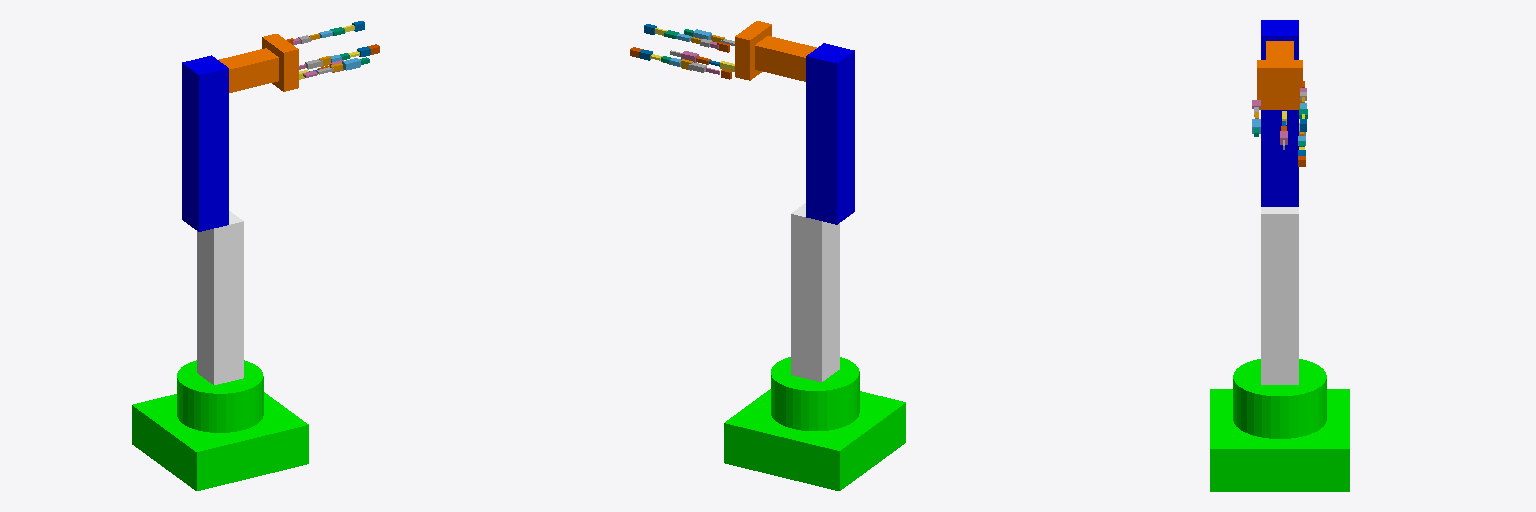
robot.urdf — robot:
<?xml version='1.0' encoding='utf-8'?>
<robot name="robot">
  <link name="base_link">
    <visual>
      <origin xyz="0 0 0.125" rpy="0 0 0" />
      <geometry>
        <box size="0.75 0.75 0.25" />
      </geometry>
      <material name="green" />
    </visual>
    <visual>
      <origin xyz="0 0 0.375" rpy="0 0 0" />
      <geometry>
        <cylinder length="0.25" radius="0.25" />
      </geometry>
      <material name="green">
        <color rgba="0 1 0 1" />
      </material>
    </visual>
    <collision>
      <geometry>
        <box size="0.75 0.75 0.5" />
      </geometry>
    </collision>
    <inertial>
      <mass value="0.5" />
      <inertia ixx="0.034" ixy="0.0" ixz="0.0" iyy="0.034" iyz="0.0" izz="0.034" />
    </inertial>
  </link>
  <link name="support_link">
    <visual>
      <origin xyz="0 0 0.5" rpy="0 0 0" />
      <geometry>
        <box size="0.2 0.2 1" />
      </geometry>
      <material name="white">
        <color rgba="1 1 1 1" />
      </material>
    </visual>
    <collision>
      <geometry>
        <box size="0.2 0.2 1" />
      </geometry>
    </collision>
    <inertial>
      <mass value="0.1" />
      <inertia ixx="0.01" ixy="0.0" ixz="0.0" iyy="0.01" iyz="0.0" izz="0.01" />
    </inertial>
  </link>
  <joint name="support_joint" type="continuous">
    <origin xyz="0 0 0.5" rpy="0 0 0" />
    <parent link="base_link" />
    <child link="support_link" />
    <axis xyz="0 0 1" />
  </joint>
  <link name="arm_link">
    <visual>
      <origin xyz="0 0 0.5" rpy="0 0 0" />
      <geometry>
        <box size="0.2 0.2 1" />
      </geometry>
      <material name="blue">
        <color rgba="0 0 1 1" />
      </material>
    </visual>
    <collision>
      <geometry>
        <box size="0.2 0.2 1" />
      </geometry>
    </collision>
    <inertial>
      <mass value="0.1" />
      <inertia ixx="0.01" ixy="0.0" ixz="0.0" iyy="0.01" iyz="0.0" izz="0.01" />
    </inertial>
  </link>
  <joint name="arm_joint" type="revolute">
    <origin xyz="-0.1 0 1" rpy="0 0 0" />
    <parent link="support_link" />
    <child link="arm_link" />
    <axis xyz="0 1 0" />
    <limit lower="-3.14" upper="3.14" effort="1.0" velocity="1.0" />
  </joint>
  <link name="wrist_link">
    <visual>
      <origin xyz="0 0 0.25" rpy="0 0 0" />
      <geometry>
        <box size="0.15 0.15 0.5" />
      </geometry>
      <material name="orange">
        <color rgba="1 0.5 0 1" />
      </material>
    </visual>
    <collision>
      <geometry>
        <box size="0.15 0.15 0.5" />
      </geometry>
    </collision>
    <inertial>
      <mass value="0.1" />
      <inertia ixx="0.01" ixy="0.0" ixz="0.0" iyy="0.01" iyz="0.0" izz="0.01" />
    </inertial>
  </link>
  <joint name="wrist_joint" type="fixed">
    <origin xyz="0 0 0.9" rpy="0 1.571 0" />
    <parent link="arm_link" />
    <child link="wrist_link" />
  </joint>
  <link name="palm_link">
    <visual>
      <origin xyz="0 0 0.05" rpy="0 0 0" />
      <geometry>
        <box size="0.25 0.25 0.1" />
      </geometry>
      <material name="orange" />
    </visual>
    <collision>
      <geometry>
        <box size="0.25 0.25 0.1" />
      </geometry>
    </collision>
    <inertial>
      <mass value="0.1" />
      <inertia ixx="0.01" ixy="0.0" ixz="0.0" iyy="0.01" iyz="0.0" izz="0.01" />
    </inertial>
  </link>
  <joint name="palm_joint" type="fixed">
    <origin xyz="0 0 0.45" rpy="0 0 0" />
    <parent link="wrist_link" />
    <child link="palm_link" />
  </joint>
  <link name="finger_link_0_0">
    <visual>
      <origin xyz="0 0 0.0355" rpy="0 0 0" />
      <geometry>
        <box size="0.044 0.02 0.071" />
      </geometry>
    </visual>
    <collision>
      <geometry>
        <box size="0.044 0.02 0.071" />
      </geometry>
    </collision>
    <inertial>
      <mass value="0.019" />
      <inertia ixx="0.0" iyy="0.0" izz="0.0" ixy="0" ixz="0" iyz="0" />
    </inertial>
  </link>
  <joint name="finger_joint_palm_link_to_finger_link_0_0" type="revolute">
    <origin xyz="-0.043 0.125 0.136" rpy="0 0 0" />
    <parent link="palm_link" />
    <child link="finger_link_0_0" />
    <axis xyz="-1.0 0.0 0.0" />
    <limit lower="-3.142" upper="3.142" effort="10" velocity="10" />
  </joint>
  <link name="finger_link_0_1">
    <visual>
      <origin xyz="0 0 0.0265" rpy="0 0 0" />
      <geometry>
        <box size="0.023 0.033 0.053" />
      </geometry>
    </visual>
    <collision>
      <geometry>
        <box size="0.023 0.033 0.053" />
      </geometry>
    </collision>
    <inertial>
      <mass value="0.012" />
      <inertia ixx="0.0" iyy="0.0" izz="0.0" ixy="0" ixz="0" iyz="0" />
    </inertial>
  </link>
  <joint name="finger_joint_finger_link_0_0_to_finger_link_0_1" type="revolute">
    <origin xyz="0.0 0.0 0.062" rpy="0 0 0" />
    <parent link="finger_link_0_0" />
    <child link="finger_link_0_1" />
    <axis xyz="-1.0 0.0 0.0" />
    <limit lower="-3.142" upper="3.142" effort="10" velocity="10" />
  </joint>
  <link name="finger_link_0_2">
    <visual>
      <origin xyz="0 0 0.0295" rpy="0 0 0" />
      <geometry>
        <box size="0.026 0.041 0.059" />
      </geometry>
    </visual>
    <collision>
      <geometry>
        <box size="0.026 0.041 0.059" />
      </geometry>
    </collision>
    <inertial>
      <mass value="0.019" />
      <inertia ixx="0.0" iyy="0.0" izz="0.0" ixy="0" ixz="0" iyz="0" />
    </inertial>
  </link>
  <joint name="finger_joint_finger_link_0_1_to_finger_link_0_2" type="revolute">
    <origin xyz="0.0 0.0 0.056" rpy="0 0 0" />
    <parent link="finger_link_0_1" />
    <child link="finger_link_0_2" />
    <axis xyz="-1.0 0.0 0.0" />
    <limit lower="-3.142" upper="3.142" effort="10" velocity="10" />
  </joint>
  <link name="finger_link_0_3">
    <visual>
      <origin xyz="0 0 0.0325" rpy="0 0 0" />
      <geometry>
        <box size="0.027 0.015 0.065" />
      </geometry>
    </visual>
    <collision>
      <geometry>
        <box size="0.027 0.015 0.065" />
      </geometry>
    </collision>
    <inertial>
      <mass value="0.008" />
      <inertia ixx="0.0" iyy="0.0" izz="0.0" ixy="0" ixz="0" iyz="0" />
    </inertial>
  </link>
  <joint name="finger_joint_finger_link_0_2_to_finger_link_0_3" type="revolute">
    <origin xyz="0.0 0.0 0.062" rpy="0 0 0" />
    <parent link="finger_link_0_2" />
    <child link="finger_link_0_3" />
    <axis xyz="-1.0 0.0 0.0" />
    <limit lower="-3.142" upper="3.142" effort="10" velocity="10" />
  </joint>
  <link name="finger_link_0_4">
    <visual>
      <origin xyz="0 0 0.04" rpy="0 0 0" />
      <geometry>
        <box size="0.023 0.033 0.08" />
      </geometry>
    </visual>
    <collision>
      <geometry>
        <box size="0.023 0.033 0.08" />
      </geometry>
    </collision>
    <inertial>
      <mass value="0.018" />
      <inertia ixx="0.0" iyy="0.0" izz="0.0" ixy="0" ixz="0" iyz="0" />
    </inertial>
  </link>
  <joint name="finger_joint_finger_link_0_3_to_finger_link_0_4" type="revolute">
    <origin xyz="0.0 0.0 0.072" rpy="0 0 0" />
    <parent link="finger_link_0_3" />
    <child link="finger_link_0_4" />
    <axis xyz="-1.0 0.0 0.0" />
    <limit lower="-3.142" upper="3.142" effort="10" velocity="10" />
  </joint>
  <link name="finger_link_0_5">
    <visual>
      <origin xyz="0 0 0.038" rpy="0 0 0" />
      <geometry>
        <box size="0.022 0.048 0.076" />
      </geometry>
    </visual>
    <collision>
      <geometry>
        <box size="0.022 0.048 0.076" />
      </geometry>
    </collision>
    <inertial>
      <mass value="0.024" />
      <inertia ixx="0.0" iyy="0.0" izz="0.0" ixy="0" ixz="0" iyz="0" />
    </inertial>
  </link>
  <joint name="finger_joint_finger_link_0_4_to_finger_link_0_5" type="revolute">
    <origin xyz="0.0 0.0 0.078" rpy="0 0 0" />
    <parent link="finger_link_0_4" />
    <child link="finger_link_0_5" />
    <axis xyz="-1.0 0.0 0.0" />
    <limit lower="-3.142" upper="3.142" effort="10" velocity="10" />
  </joint>
  <link name="finger_link_0_6">
    <visual>
      <origin xyz="0 0 0.0375" rpy="0 0 0" />
      <geometry>
        <box size="0.03 0.016 0.075" />
      </geometry>
    </visual>
    <collision>
      <geometry>
        <box size="0.03 0.016 0.075" />
      </geometry>
    </collision>
    <inertial>
      <mass value="0.011" />
      <inertia ixx="0.0" iyy="0.0" izz="0.0" ixy="0" ixz="0" iyz="0" />
    </inertial>
  </link>
  <joint name="finger_joint_finger_link_0_5_to_finger_link_0_6" type="revolute">
    <origin xyz="0.0 0.0 0.076" rpy="0 0 0" />
    <parent link="finger_link_0_5" />
    <child link="finger_link_0_6" />
    <axis xyz="-1.0 0.0 0.0" />
    <limit lower="-3.142" upper="3.142" effort="10" velocity="10" />
  </joint>
  <link name="finger_link_0_7">
    <visual>
      <origin xyz="0 0 0.033" rpy="0 0 0" />
      <geometry>
        <box size="0.045 0.034 0.066" />
      </geometry>
    </visual>
    <collision>
      <geometry>
        <box size="0.045 0.034 0.066" />
      </geometry>
    </collision>
    <inertial>
      <mass value="0.03" />
      <inertia ixx="0.0" iyy="0.0" izz="0.0" ixy="0" ixz="0" iyz="0" />
    </inertial>
  </link>
  <joint name="finger_joint_finger_link_0_6_to_finger_link_0_7" type="revolute">
    <origin xyz="0.0 0.0 0.071" rpy="0 0 0" />
    <parent link="finger_link_0_6" />
    <child link="finger_link_0_7" />
    <axis xyz="-1.0 0.0 0.0" />
    <limit lower="-3.142" upper="3.142" effort="10" velocity="10" />
  </joint>
  <link name="finger_link_1_0">
    <visual>
      <origin xyz="0 0 0.029" rpy="0 0 0" />
      <geometry>
        <box size="0.044 0.02 0.058" />
      </geometry>
    </visual>
    <collision>
      <geometry>
        <box size="0.044 0.02 0.058" />
      </geometry>
    </collision>
    <inertial>
      <mass value="0.015" />
      <inertia ixx="0.0" iyy="0.0" izz="0.0" ixy="0" ixz="0" iyz="0" />
    </inertial>
  </link>
  <joint name="finger_joint_palm_link_to_finger_link_1_0" type="revolute">
    <origin xyz="0.125 0.118 0.129" rpy="0 0 0" />
    <parent link="palm_link" />
    <child link="finger_link_1_0" />
    <axis xyz="0.0 1.0 0.0" />
    <limit lower="-3.142" upper="3.142" effort="10" velocity="10" />
  </joint>
  <link name="finger_link_1_1">
    <visual>
      <origin xyz="0 0 0.0435" rpy="0 0 0" />
      <geometry>
        <box size="0.021 0.011 0.087" />
      </geometry>
    </visual>
    <collision>
      <geometry>
        <box size="0.021 0.011 0.087" />
      </geometry>
    </collision>
    <inertial>
      <mass value="0.006" />
      <inertia ixx="0.0" iyy="0.0" izz="0.0" ixy="0" ixz="0" iyz="0" />
    </inertial>
  </link>
  <joint name="finger_joint_finger_link_1_0_to_finger_link_1_1" type="revolute">
    <origin xyz="0.0 0.0 0.073" rpy="0 0 0" />
    <parent link="finger_link_1_0" />
    <child link="finger_link_1_1" />
    <axis xyz="0.0 1.0 0.0" />
    <limit lower="-3.142" upper="3.142" effort="10" velocity="10" />
  </joint>
  <link name="finger_link_1_2">
    <visual>
      <origin xyz="0 0 0.0495" rpy="0 0 0" />
      <geometry>
        <box size="0.032 0.037 0.099" />
      </geometry>
    </visual>
    <collision>
      <geometry>
        <box size="0.032 0.037 0.099" />
      </geometry>
    </collision>
    <inertial>
      <mass value="0.035" />
      <inertia ixx="0.0" iyy="0.0" izz="0.0" ixy="0" ixz="0" iyz="0" />
    </inertial>
  </link>
  <joint name="finger_joint_finger_link_1_1_to_finger_link_1_2" type="revolute">
    <origin xyz="0.0 0.0 0.093" rpy="0 0 0" />
    <parent link="finger_link_1_1" />
    <child link="finger_link_1_2" />
    <axis xyz="0.0 1.0 0.0" />
    <limit lower="-3.142" upper="3.142" effort="10" velocity="10" />
  </joint>
  <link name="finger_link_1_3">
    <visual>
      <origin xyz="0 0 0.035" rpy="0 0 0" />
      <geometry>
        <box size="0.048 0.021 0.07" />
      </geometry>
    </visual>
    <collision>
      <geometry>
        <box size="0.048 0.021 0.07" />
      </geometry>
    </collision>
    <inertial>
      <mass value="0.021" />
      <inertia ixx="0.0" iyy="0.0" izz="0.0" ixy="0" ixz="0" iyz="0" />
    </inertial>
  </link>
  <joint name="finger_joint_finger_link_1_2_to_finger_link_1_3" type="revolute">
    <origin xyz="0.0 0.0 0.084" rpy="0 0 0" />
    <parent link="finger_link_1_2" />
    <child link="finger_link_1_3" />
    <axis xyz="0.0 1.0 0.0" />
    <limit lower="-3.142" upper="3.142" effort="10" velocity="10" />
  </joint>
  <link name="finger_link_1_4">
    <visual>
      <origin xyz="0 0 0.0335" rpy="0 0 0" />
      <geometry>
        <box size="0.028 0.041 0.067" />
      </geometry>
    </visual>
    <collision>
      <geometry>
        <box size="0.028 0.041 0.067" />
      </geometry>
    </collision>
    <inertial>
      <mass value="0.023" />
      <inertia ixx="0.0" iyy="0.0" izz="0.0" ixy="0" ixz="0" iyz="0" />
    </inertial>
  </link>
  <joint name="finger_joint_finger_link_1_3_to_finger_link_1_4" type="revolute">
    <origin xyz="0.0 0.0 0.069" rpy="0 0 0" />
    <parent link="finger_link_1_3" />
    <child link="finger_link_1_4" />
    <axis xyz="0.0 1.0 0.0" />
    <limit lower="-3.142" upper="3.142" effort="10" velocity="10" />
  </joint>
  <link name="finger_link_1_5">
    <visual>
      <origin xyz="0 0 0.0305" rpy="0 0 0" />
      <geometry>
        <box size="0.025 0.035 0.061" />
      </geometry>
    </visual>
    <collision>
      <geometry>
        <box size="0.025 0.035 0.061" />
      </geometry>
    </collision>
    <inertial>
      <mass value="0.016" />
      <inertia ixx="0.0" iyy="0.0" izz="0.0" ixy="0" ixz="0" iyz="0" />
    </inertial>
  </link>
  <joint name="finger_joint_finger_link_1_4_to_finger_link_1_5" type="revolute">
    <origin xyz="0.0 0.0 0.064" rpy="0 0 0" />
    <parent link="finger_link_1_4" />
    <child link="finger_link_1_5" />
    <axis xyz="0.0 1.0 0.0" />
    <limit lower="-3.142" upper="3.142" effort="10" velocity="10" />
  </joint>
  <link name="finger_link_1_6">
    <visual>
      <origin xyz="0 0 0.0335" rpy="0 0 0" />
      <geometry>
        <box size="0.014 0.032 0.067" />
      </geometry>
    </visual>
    <collision>
      <geometry>
        <box size="0.014 0.032 0.067" />
      </geometry>
    </collision>
    <inertial>
      <mass value="0.009" />
      <inertia ixx="0.0" iyy="0.0" izz="0.0" ixy="0" ixz="0" iyz="0" />
    </inertial>
  </link>
  <joint name="finger_joint_finger_link_1_5_to_finger_link_1_6" type="revolute">
    <origin xyz="0.0 0.0 0.064" rpy="0 0 0" />
    <parent link="finger_link_1_5" />
    <child link="finger_link_1_6" />
    <axis xyz="0.0 1.0 0.0" />
    <limit lower="-3.142" upper="3.142" effort="10" velocity="10" />
  </joint>
  <link name="finger_link_1_7">
    <visual>
      <origin xyz="0 0 0.034" rpy="0 0 0" />
      <geometry>
        <box size="0.039 0.043 0.068" />
      </geometry>
    </visual>
    <collision>
      <geometry>
        <box size="0.039 0.043 0.068" />
      </geometry>
    </collision>
    <inertial>
      <mass value="0.034" />
      <inertia ixx="0.0" iyy="0.0" izz="0.0" ixy="0" ixz="0" iyz="0" />
    </inertial>
  </link>
  <joint name="finger_joint_finger_link_1_6_to_finger_link_1_7" type="revolute">
    <origin xyz="0.0 0.0 0.067" rpy="0 0 0" />
    <parent link="finger_link_1_6" />
    <child link="finger_link_1_7" />
    <axis xyz="0.0 1.0 0.0" />
    <limit lower="-3.142" upper="3.142" effort="10" velocity="10" />
  </joint>
  <link name="finger_link_1_8">
    <visual>
      <origin xyz="0 0 0.032" rpy="0 0 0" />
      <geometry>
        <box size="0.039 0.043 0.064" />
      </geometry>
    </visual>
    <collision>
      <geometry>
        <box size="0.039 0.043 0.064" />
      </geometry>
    </collision>
    <inertial>
      <mass value="0.032" />
      <inertia ixx="0.0" iyy="0.0" izz="0.0" ixy="0" ixz="0" iyz="0" />
    </inertial>
  </link>
  <joint name="finger_joint_finger_link_1_7_to_finger_link_1_8" type="revolute">
    <origin xyz="0.0 0.0 0.066" rpy="0 0 0" />
    <parent link="finger_link_1_7" />
    <child link="finger_link_1_8" />
    <axis xyz="0.0 1.0 0.0" />
    <limit lower="-3.142" upper="3.142" effort="10" velocity="10" />
  </joint>
  <link name="finger_link_2_0">
    <visual>
      <origin xyz="0 0 0.0395" rpy="0 0 0" />
      <geometry>
        <box size="0.013 0.044 0.079" />
      </geometry>
    </visual>
    <collision>
      <geometry>
        <box size="0.013 0.044 0.079" />
      </geometry>
    </collision>
    <inertial>
      <mass value="0.014" />
      <inertia ixx="0.0" iyy="0.0" izz="0.0" ixy="0" ixz="0" iyz="0" />
    </inertial>
  </link>
  <joint name="finger_joint_palm_link_to_finger_link_2_0" type="revolute">
    <origin xyz="0.053 -0.125 0.139" rpy="0 0 0" />
    <parent link="palm_link" />
    <child link="finger_link_2_0" />
    <axis xyz="1.0 0.0 0.0" />
    <limit lower="-3.142" upper="3.142" effort="10" velocity="10" />
  </joint>
  <link name="finger_link_2_1">
    <visual>
      <origin xyz="0 0 0.05" rpy="0 0 0" />
      <geometry>
        <box size="0.015 0.03 0.1" />
      </geometry>
    </visual>
    <collision>
      <geometry>
        <box size="0.015 0.03 0.1" />
      </geometry>
    </collision>
    <inertial>
      <mass value="0.014" />
      <inertia ixx="0.0" iyy="0.0" izz="0.0" ixy="0" ixz="0" iyz="0" />
    </inertial>
  </link>
  <joint name="finger_joint_finger_link_2_0_to_finger_link_2_1" type="revolute">
    <origin xyz="0.0 0.0 0.089" rpy="0 0 0" />
    <parent link="finger_link_2_0" />
    <child link="finger_link_2_1" />
    <axis xyz="1.0 0.0 0.0" />
    <limit lower="-3.142" upper="3.142" effort="10" velocity="10" />
  </joint>
  <link name="finger_link_2_2">
    <visual>
      <origin xyz="0 0 0.038" rpy="0 0 0" />
      <geometry>
        <box size="0.036 0.021 0.076" />
      </geometry>
    </visual>
    <collision>
      <geometry>
        <box size="0.036 0.021 0.076" />
      </geometry>
    </collision>
    <inertial>
      <mass value="0.017" />
      <inertia ixx="0.0" iyy="0.0" izz="0.0" ixy="0" ixz="0" iyz="0" />
    </inertial>
  </link>
  <joint name="finger_joint_finger_link_2_1_to_finger_link_2_2" type="revolute">
    <origin xyz="0.0 0.0 0.088" rpy="0 0 0" />
    <parent link="finger_link_2_1" />
    <child link="finger_link_2_2" />
    <axis xyz="1.0 0.0 0.0" />
    <limit lower="-3.142" upper="3.142" effort="10" velocity="10" />
  </joint>
  <link name="finger_link_2_3">
    <visual>
      <origin xyz="0 0 0.0495" rpy="0 0 0" />
      <geometry>
        <box size="0.042 0.046 0.099" />
      </geometry>
    </visual>
    <collision>
      <geometry>
        <box size="0.042 0.046 0.099" />
      </geometry>
    </collision>
    <inertial>
      <mass value="0.057" />
      <inertia ixx="0.0" iyy="0.0" izz="0.0" ixy="0" ixz="0" iyz="0" />
    </inertial>
  </link>
  <joint name="finger_joint_finger_link_2_2_to_finger_link_2_3" type="revolute">
    <origin xyz="0.0 0.0 0.088" rpy="0 0 0" />
    <parent link="finger_link_2_2" />
    <child link="finger_link_2_3" />
    <axis xyz="1.0 0.0 0.0" />
    <limit lower="-3.142" upper="3.142" effort="10" velocity="10" />
  </joint>
  <link name="finger_link_2_4">
    <visual>
      <origin xyz="0 0 0.0375" rpy="0 0 0" />
      <geometry>
        <box size="0.024 0.03 0.075" />
      </geometry>
    </visual>
    <collision>
      <geometry>
        <box size="0.024 0.03 0.075" />
      </geometry>
    </collision>
    <inertial>
      <mass value="0.016" />
      <inertia ixx="0.0" iyy="0.0" izz="0.0" ixy="0" ixz="0" iyz="0" />
    </inertial>
  </link>
  <joint name="finger_joint_finger_link_2_3_to_finger_link_2_4" type="revolute">
    <origin xyz="0.0 0.0 0.087" rpy="0 0 0" />
    <parent link="finger_link_2_3" />
    <child link="finger_link_2_4" />
    <axis xyz="1.0 0.0 0.0" />
    <limit lower="-3.142" upper="3.142" effort="10" velocity="10" />
  </joint>
  <link name="finger_link_3_0">
    <visual>
      <origin xyz="0 0 0.0495" rpy="0 0 0" />
      <geometry>
        <box size="0.038 0.027 0.099" />
      </geometry>
    </visual>
    <collision>
      <geometry>
        <box size="0.038 0.027 0.099" />
      </geometry>
    </collision>
    <inertial>
      <mass value="0.03" />
      <inertia ixx="0.0" iyy="0.0" izz="0.0" ixy="0" ixz="0" iyz="0" />
    </inertial>
  </link>
  <joint name="finger_joint_palm_link_to_finger_link_3_0" type="revolute">
    <origin xyz="0.125 0.022 0.15" rpy="0 0 0" />
    <parent link="palm_link" />
    <child link="finger_link_3_0" />
    <axis xyz="0.0 1.0 0.0" />
    <limit lower="-3.142" upper="3.142" effort="10" velocity="10" />
  </joint>
  <link name="finger_link_3_1">
    <visual>
      <origin xyz="0 0 0.04" rpy="0 0 0" />
      <geometry>
        <box size="0.013 0.025 0.08" />
      </geometry>
    </visual>
    <collision>
      <geometry>
        <box size="0.013 0.025 0.08" />
      </geometry>
    </collision>
    <inertial>
      <mass value="0.008" />
      <inertia ixx="0.0" iyy="0.0" izz="0.0" ixy="0" ixz="0" iyz="0" />
    </inertial>
  </link>
  <joint name="finger_joint_finger_link_3_0_to_finger_link_3_1" type="revolute">
    <origin xyz="0.0 0.0 0.09" rpy="0 0 0" />
    <parent link="finger_link_3_0" />
    <child link="finger_link_3_1" />
    <axis xyz="0.0 1.0 0.0" />
    <limit lower="-3.142" upper="3.142" effort="10" velocity="10" />
  </joint>
  <link name="finger_link_3_2">
    <visual>
      <origin xyz="0 0 0.0405" rpy="0 0 0" />
      <geometry>
        <box size="0.024 0.031 0.081" />
      </geometry>
    </visual>
    <collision>
      <geometry>
        <box size="0.024 0.031 0.081" />
      </geometry>
    </collision>
    <inertial>
      <mass value="0.018" />
      <inertia ixx="0.0" iyy="0.0" izz="0.0" ixy="0" ixz="0" iyz="0" />
    </inertial>
  </link>
  <joint name="finger_joint_finger_link_3_1_to_finger_link_3_2" type="revolute">
    <origin xyz="0.0 0.0 0.081" rpy="0 0 0" />
    <parent link="finger_link_3_1" />
    <child link="finger_link_3_2" />
    <axis xyz="0.0 1.0 0.0" />
    <limit lower="-3.142" upper="3.142" effort="10" velocity="10" />
  </joint>
  <link name="finger_link_3_3">
    <visual>
      <origin xyz="0 0 0.0435" rpy="0 0 0" />
      <geometry>
        <box size="0.045 0.045 0.087" />
      </geometry>
    </visual>
    <collision>
      <geometry>
        <box size="0.045 0.045 0.087" />
      </geometry>
    </collision>
    <inertial>
      <mass value="0.053" />
      <inertia ixx="0.0" iyy="0.0" izz="0.0" ixy="0" ixz="0" iyz="0" />
    </inertial>
  </link>
  <joint name="finger_joint_finger_link_3_2_to_finger_link_3_3" type="revolute">
    <origin xyz="0.0 0.0 0.084" rpy="0 0 0" />
    <parent link="finger_link_3_2" />
    <child link="finger_link_3_3" />
    <axis xyz="0.0 1.0 0.0" />
    <limit lower="-3.142" upper="3.142" effort="10" velocity="10" />
  </joint>
  <link name="finger_link_3_4">
    <visual>
      <origin xyz="0 0 0.043" rpy="0 0 0" />
      <geometry>
        <box size="0.022 0.012 0.086" />
      </geometry>
    </visual>
    <collision>
      <geometry>
        <box size="0.022 0.012 0.086" />
      </geometry>
    </collision>
    <inertial>
      <mass value="0.007" />
      <inertia ixx="0.0" iyy="0.0" izz="0.0" ixy="0" ixz="0" iyz="0" />
    </inertial>
  </link>
  <joint name="finger_joint_finger_link_3_3_to_finger_link_3_4" type="revolute">
    <origin xyz="0.0 0.0 0.086" rpy="0 0 0" />
    <parent link="finger_link_3_3" />
    <child link="finger_link_3_4" />
    <axis xyz="0.0 1.0 0.0" />
    <limit lower="-3.142" upper="3.142" effort="10" velocity="10" />
  </joint>
</robot>

--- What the picture shows (computed from the rendered views, not written in the file) ---
3 views of the same robot in one strip: view 1: azimuth 30°, elevation 25°; view 2: azimuth 150°, elevation 25°; view 3: azimuth 270°, elevation 25° (orthographic).
Model robot with 32 links and 31 joints (28 revolute, 1 continuous, 2 fixed), rooted at base_link, posed every joint at zero.
Visible links, largest first — view 1: base_link, arm_link, support_link, wrist_link, palm_link; view 2: base_link, arm_link, support_link, wrist_link, palm_link; view 3: base_link, support_link, arm_link, palm_link, wrist_link.
Link boxes in pixels (box(x1,y1,x2,y2)): base_link: box(132, 360, 308, 490); arm_link: box(182, 55, 228, 231); support_link: box(197, 211, 243, 384); wrist_link: box(219, 48, 278, 92); palm_link: box(262, 34, 298, 91); base_link: box(724, 357, 905, 490); arm_link: box(806, 43, 854, 224); support_link: box(791, 203, 839, 382); wrist_link: box(755, 36, 816, 81); palm_link: box(735, 21, 771, 80); base_link: box(1210, 359, 1349, 491); support_link: box(1261, 207, 1298, 384); arm_link: box(1261, 20, 1298, 206); palm_link: box(1257, 60, 1302, 109); wrist_link: box(1266, 41, 1293, 59).
Size in the robot's own frame: 1.5 by 0.75 by 2.52 metres.
Geometry: primitives only (box / cylinder / sphere), no mesh files.